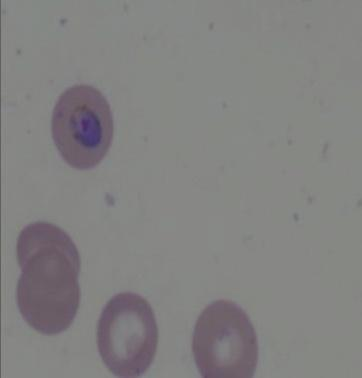Infected: (51, 84, 115, 170)
Uninfected: (14, 248, 82, 334), (97, 292, 160, 378), (193, 300, 259, 378), (17, 221, 82, 286)
